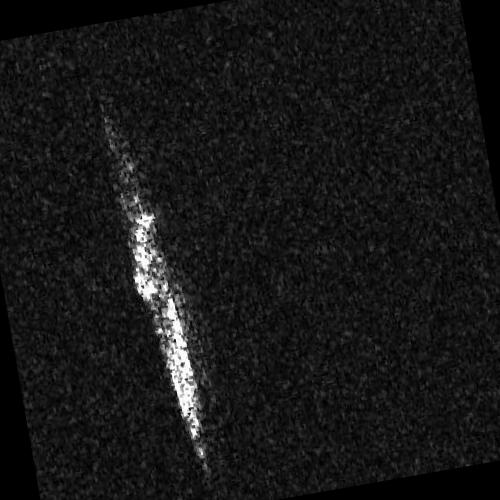ship: (103, 141, 205, 467)
